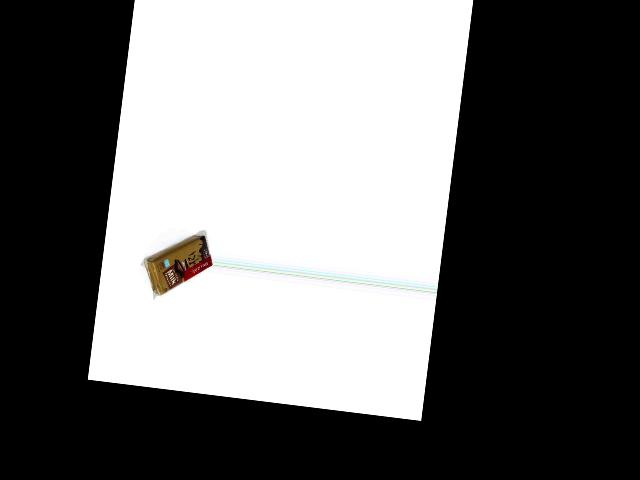chocolate: (139, 227, 214, 309)
